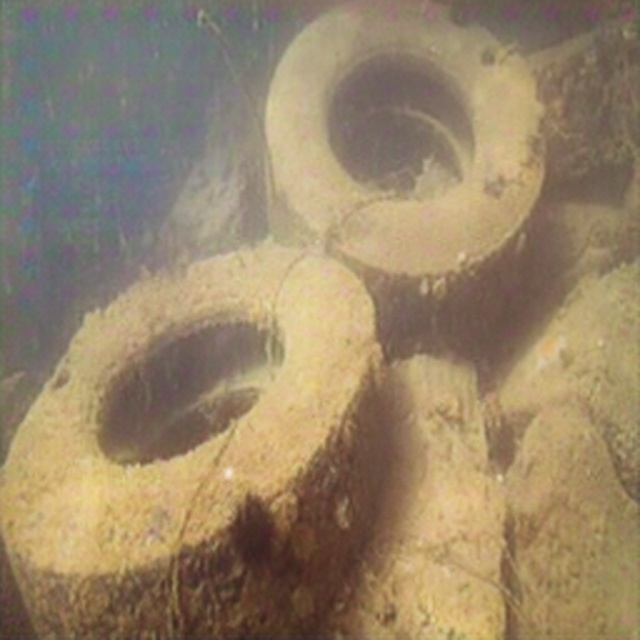mine: (0, 246, 385, 639), (264, 0, 546, 346)
